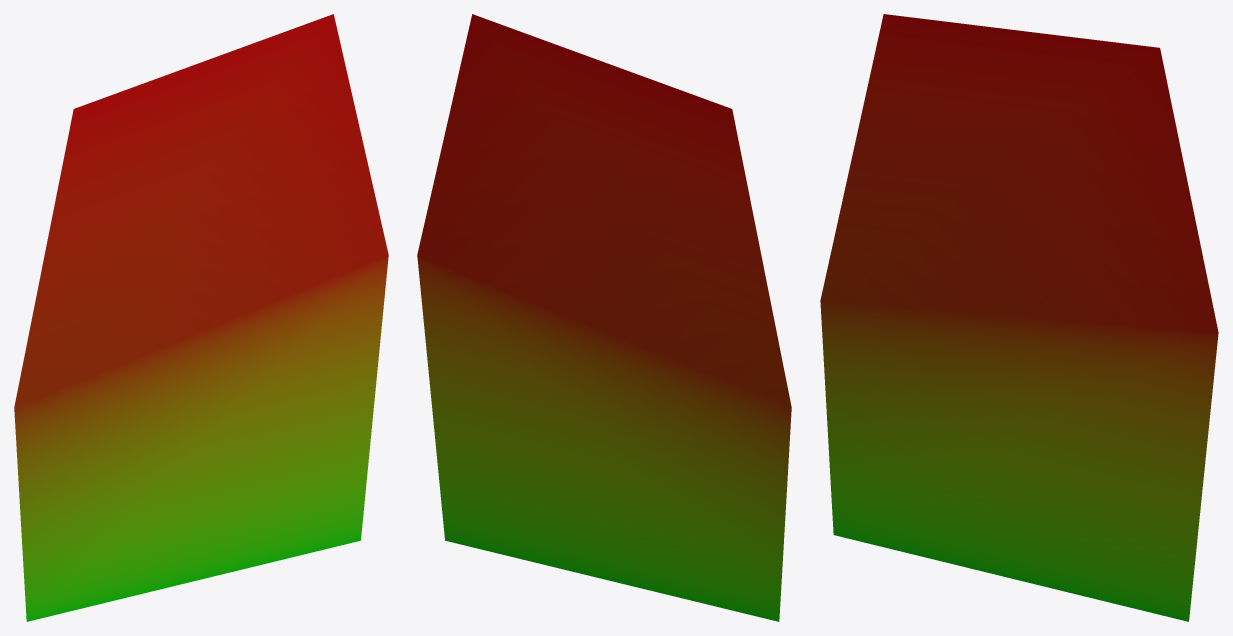
Rendered from Raspberry_LOD4_Var13_wf0oefeja.fbx.
3 views of the same model, side by side, from view 1: azimuth 30°, elevation 25°; view 2: azimuth 150°, elevation 25°; view 3: azimuth 330°, elevation 25° (orthographic). The views are drawn at different scales.
Parts seen in each view (by area): view 1: _7mjn_Var13_LOD4; view 2: _7mjn_Var13_LOD4; view 3: _7mjn_Var13_LOD4.
Boxes of the visible parts, x1=… form: _7mjn_Var13_LOD4: x1=14, y1=14, x2=388, y2=621; _7mjn_Var13_LOD4: x1=417, y1=14, x2=791, y2=621; _7mjn_Var13_LOD4: x1=820, y1=14, x2=1218, y2=621.
Size of the model in its own units: 11.98 by 16.3 by 1.94e-06.
